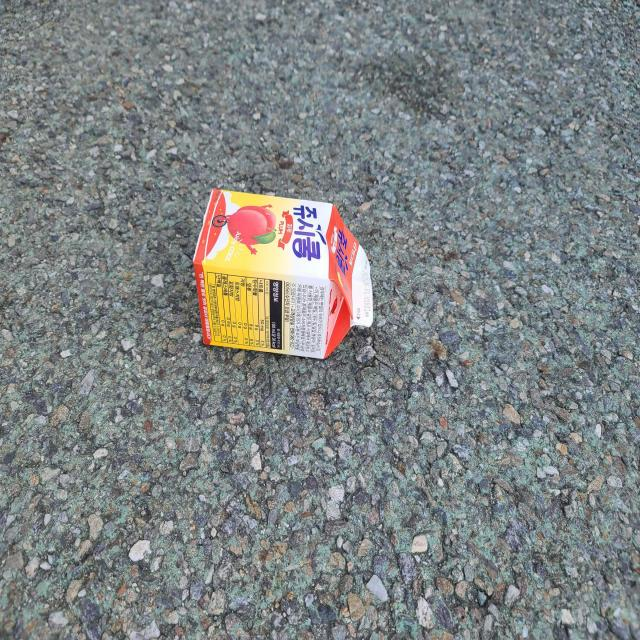paperpack: (193, 188, 374, 358)
